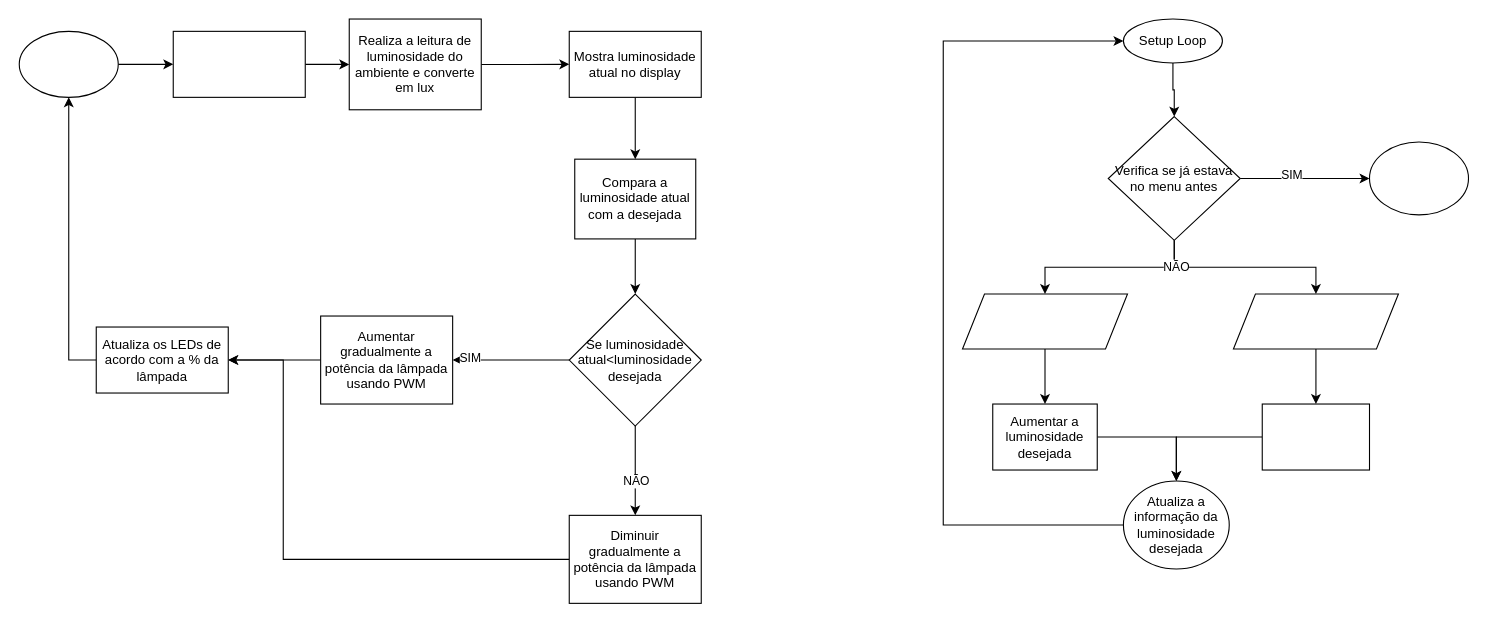
Image size: 1488x624. Some labels were removed from this diagram. The shapes that lost their labels are listed below. From the top down, each one's centre as x and y in pixels, then its label:
(68,63): Main Loop
(238,63): Fazer as configurações dos registradores
(1418,178): Fim do Setup Loop
(1044,321): botão "+" pressionado
(1315,321): botão "-" pressionado
(1315,436): Diminuir a luminosidade deseja
